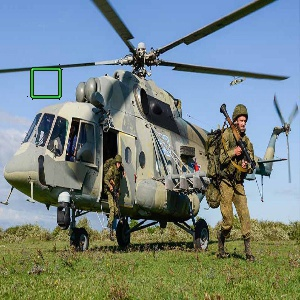square: (31, 67, 62, 98)
